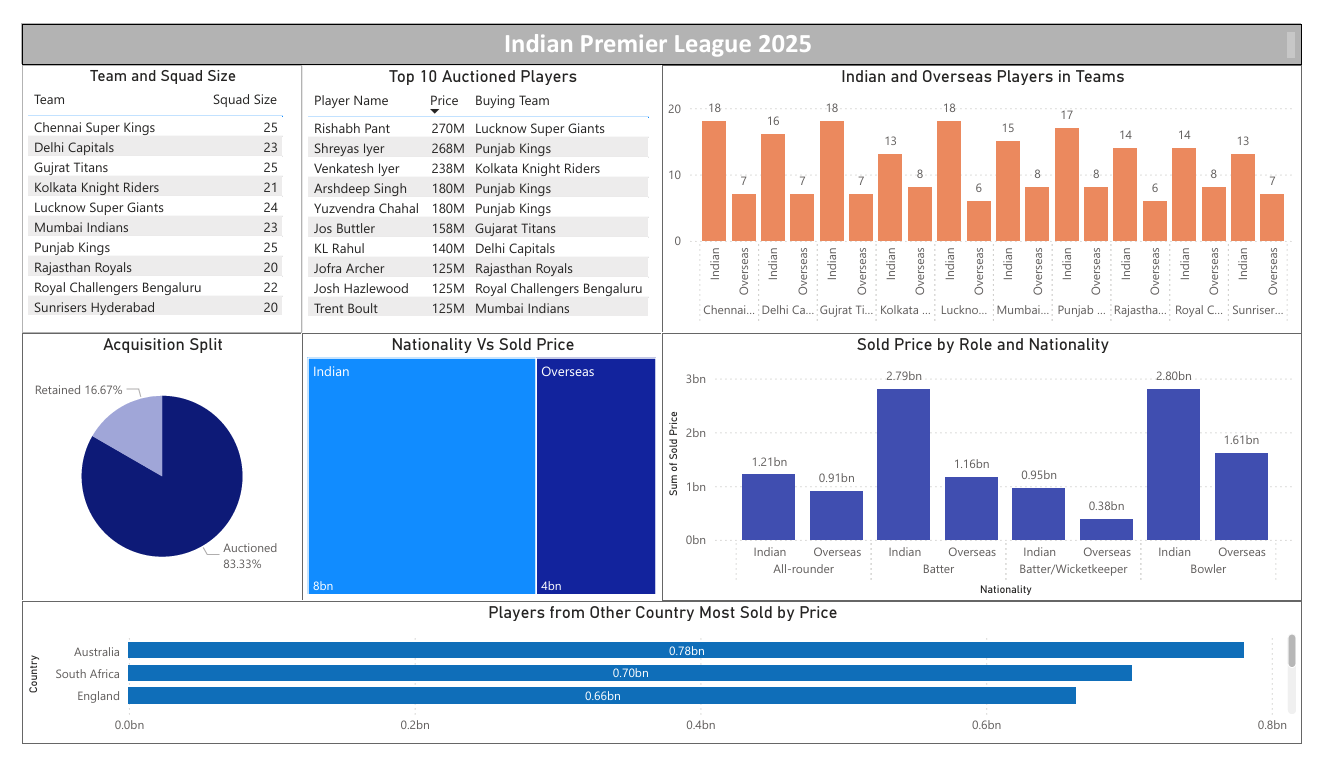

This screenshot's page, from the dashboard's own definition file:
{"tool":"powerbi","page":{"name":"IPL Dashboard","canvas":[1280,720],"ordinal":0},"visuals":[{"type":"tableEx","title":"Top 10 Auctioned Players","fields":{"Values":["Master Data.Player","Master Data.Sold Price","Master Data.Buying Team"]},"box":[280.1,40.9,359.9,268.4],"z":0},{"type":"pieChart","title":"Acquisition Split","fields":{"Series":["New Data.Acquisition Type"],"Y":["New Data.Acquisition Type"]},"box":[0,309.3,280.1,267.5],"z":1000},{"type":"treemap","title":"Nationality Vs Sold Price","fields":{"Values":["New Data.Sold Price"],"Group":["New Data.Nationality"]},"box":[280.1,309.3,359.9,267.5],"z":2000},{"type":"clusteredColumnChart","title":"Indian and Overseas Players in Teams","fields":{"Category":["New Data.Team","New Data.Nationality"],"Y":["New Data.Team"]},"box":[640,40.9,640,268.4],"z":3000},{"type":"tableEx","title":"Team and Squad Size","fields":{"Values":["New Data.Team","New Data.Player"]},"box":[0,40.9,280.1,268.4],"z":4000},{"type":"barChart","title":"Players from Other Country Most Sold by Price","fields":{"Category":["New Data.Country"],"Y":["New Data.Sold Price"]},"box":[0,576.8,1280,143],"z":5000},{"type":"clusteredColumnChart","title":"Sold Price by Role and Nationality","fields":{"Category":["New Data.Role","New Data.Nationality"],"Y":["New Data.Sold Price"]},"box":[640,309.3,640,267.5],"z":6000},{"type":"textbox","box":[0,0,1280,40.9],"z":6001}]}

Visuals, with their boxes in screenshot pixels (x1, y1, x2, y2), scaled from the page's 1280x720 canvas onto the 1326x765 screenshot:
"Top 10 Auctioned Players" tableEx: [290, 43, 663, 329]
"Acquisition Split" pieChart: [0, 329, 290, 613]
"Nationality Vs Sold Price" treemap: [290, 329, 663, 613]
"Indian and Overseas Players in Teams" clusteredColumnChart: [663, 43, 1325, 329]
"Team and Squad Size" tableEx: [0, 43, 290, 329]
"Players from Other Country Most Sold by Price" barChart: [0, 613, 1325, 764]
"Sold Price by Role and Nationality" clusteredColumnChart: [663, 329, 1325, 613]
textbox: [0, 0, 1325, 43]
